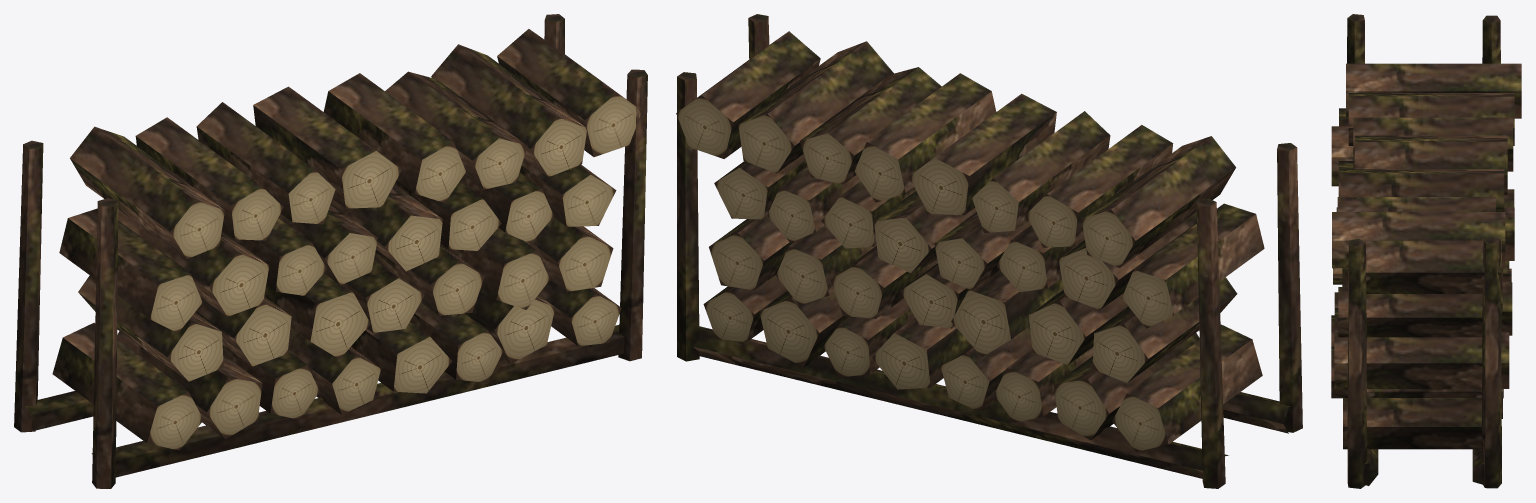
File: camp_cordwood_stack.glb
3 renders of one model, left to right at view 1: azimuth 30°, elevation 25°; view 2: azimuth 150°, elevation 25°; view 3: azimuth 270°, elevation 25°, orthographic. The views are drawn at different scales.
Visible parts, largest first — view 1: camp_cordwood_stack; view 2: camp_cordwood_stack; view 3: camp_cordwood_stack.
Boxes of the visible parts, box(x1,y1,x2,y2) form: camp_cordwood_stack: box(14, 14, 647, 488); camp_cordwood_stack: box(676, 14, 1302, 488); camp_cordwood_stack: box(1331, 14, 1521, 488).
Bounding box in the file's own units: 2.06 × 1 × 0.7052.
2 materials, 2 textured.
